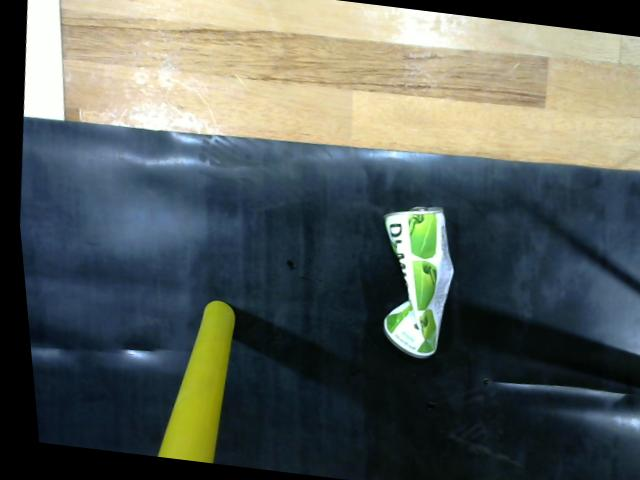can: (371, 206, 456, 359)
